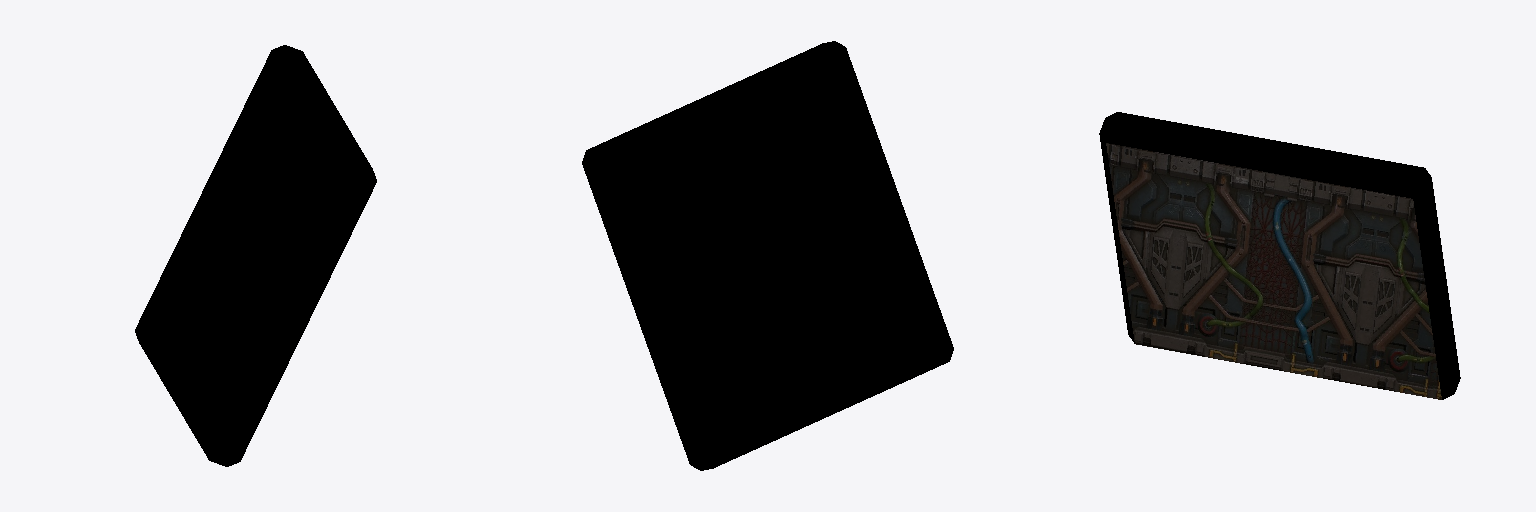
The picture shows the model from 3 angles: view 1: azimuth 30°, elevation 25°; view 2: azimuth 150°, elevation 25°; view 3: azimuth 270°, elevation 25°; orthographic projection.
Parts seen in each view (by area): view 1: COMPUERTACABINA; view 2: COMPUERTACABINA; view 3: COMPUERTACABINA.
Part boxes in pixels (left/top/right/bottom): COMPUERTACABINA: left=135, top=45, right=376, bottom=466; COMPUERTACABINA: left=582, top=41, right=953, bottom=470; COMPUERTACABINA: left=1099, top=112, right=1460, bottom=399.
Size of the model in its own units: 0.1922 by 0.2341 by 0.2547.
2 materials, 1 textured.